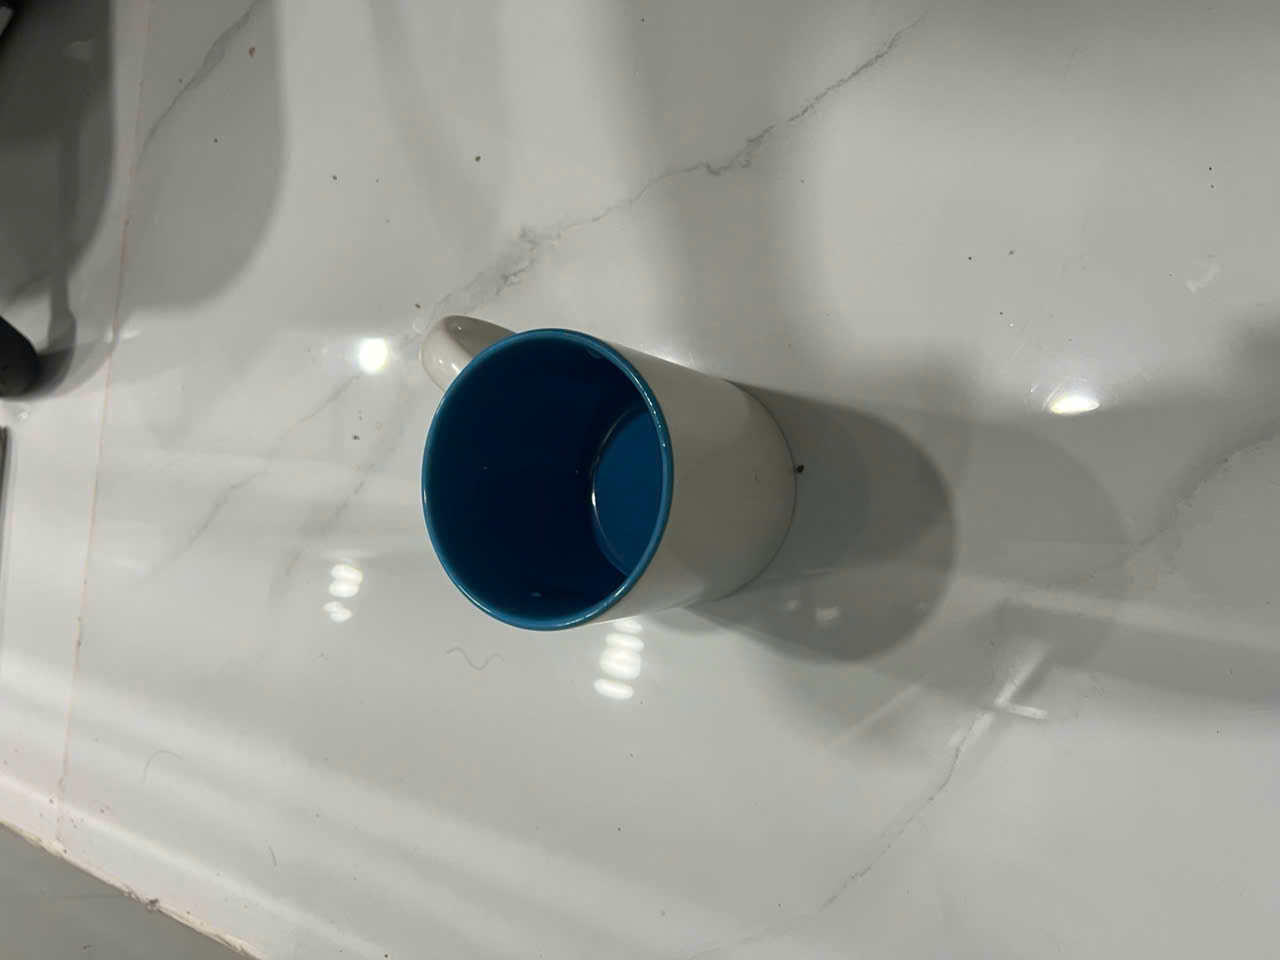ly coc: (381, 304, 807, 664)
